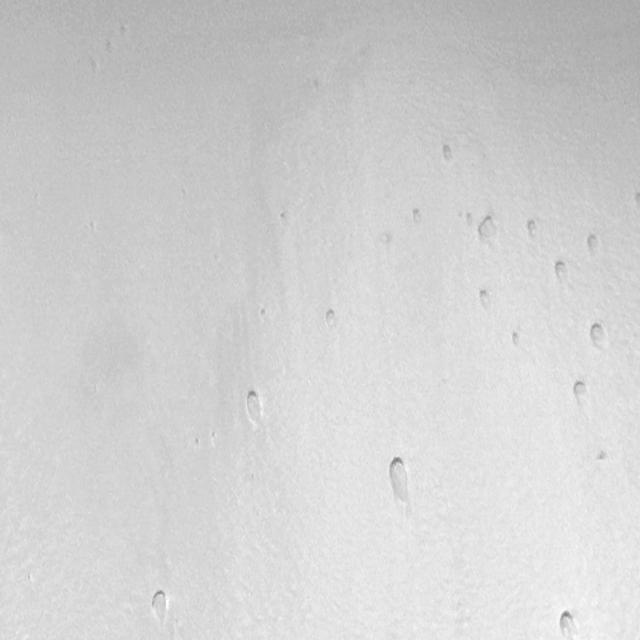pin holes: (384, 452, 415, 512), (240, 387, 266, 427), (556, 607, 583, 640), (147, 588, 171, 625), (587, 320, 611, 352), (568, 380, 591, 411), (479, 211, 497, 250), (584, 232, 604, 259), (552, 259, 572, 285), (438, 143, 458, 167), (475, 287, 494, 312), (523, 218, 541, 243), (322, 307, 340, 330), (458, 207, 473, 230), (410, 207, 425, 227), (276, 210, 292, 228), (381, 230, 395, 250), (510, 329, 523, 350), (594, 449, 611, 464), (258, 304, 272, 322), (209, 430, 218, 448), (194, 436, 204, 451)
